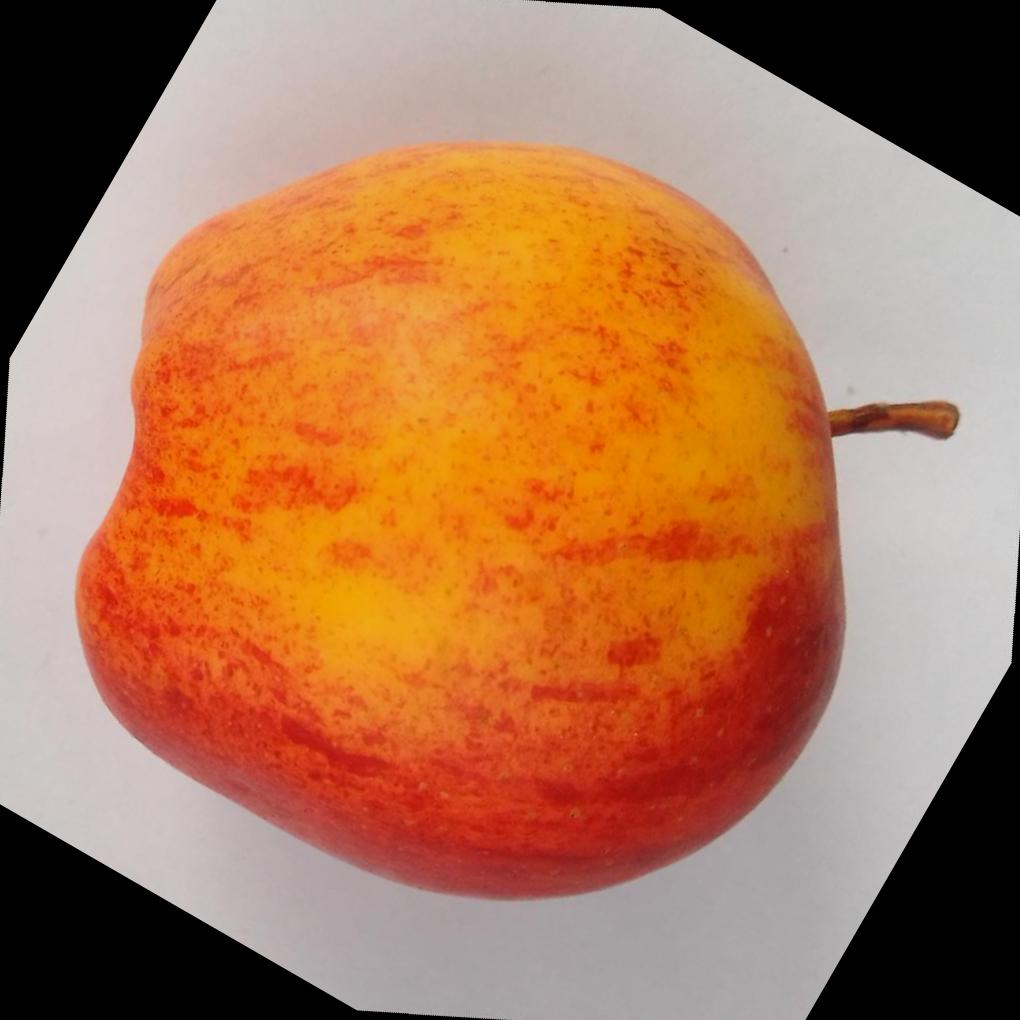FreshGuava: (74, 140, 962, 902)
